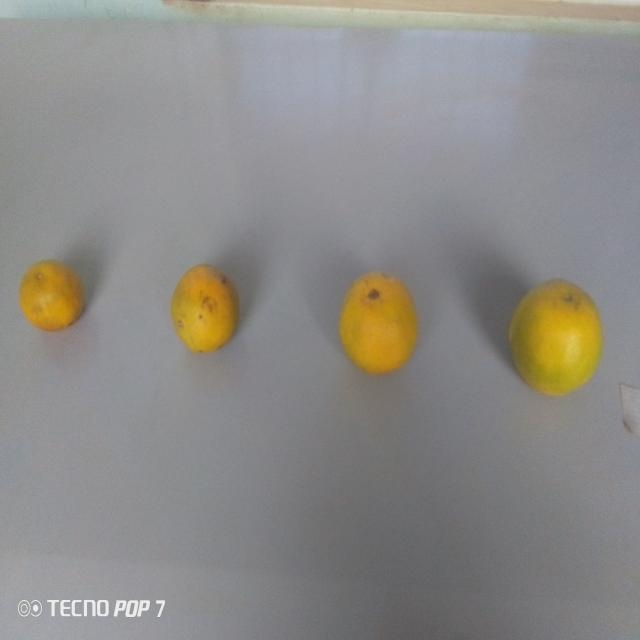agrume: (504, 267, 603, 408), (336, 268, 424, 382), (164, 259, 243, 359), (16, 257, 85, 334)
